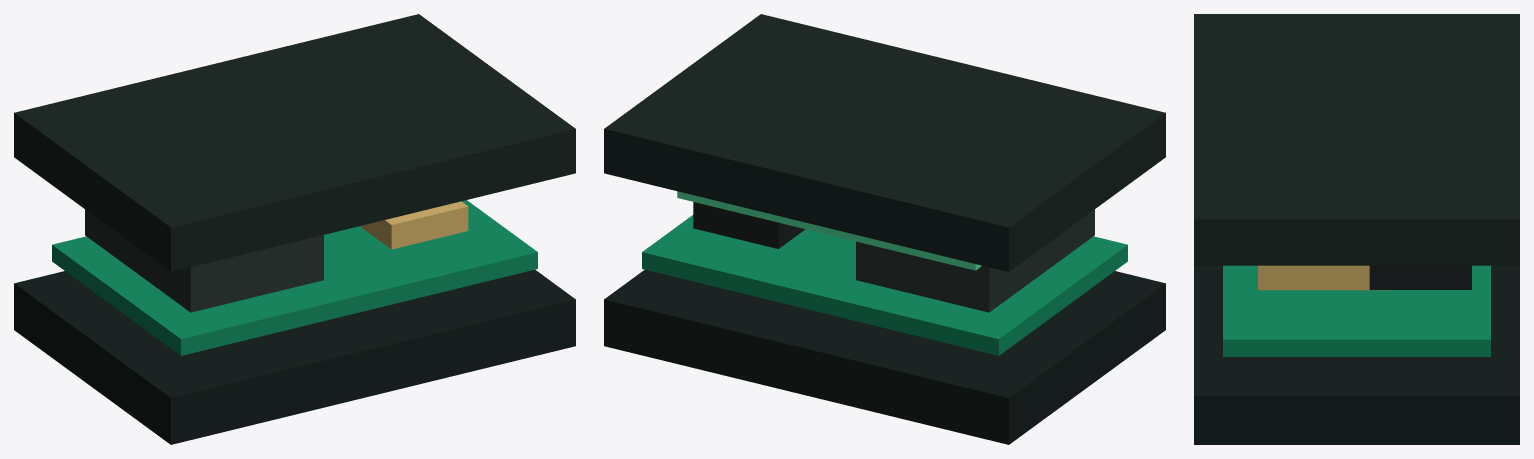
Rendered from gps-tracker.glb.
The picture shows the model from 3 angles, left to right: view 1: azimuth 30°, elevation 25°; view 2: azimuth 150°, elevation 25°; view 3: azimuth 270°, elevation 25°; orthographic projection. The views are drawn at different scales.
Visible parts, largest first — view 1: CaseTop, CaseBottom, PCB, Battery, SIMSlot; view 2: CaseTop, CaseBottom, PCB, Battery, GPSModule, 4GAntenna; view 3: CaseTop, CaseBottom, PCB, SIMSlot, GPSModule.
Boxes of the visible parts, x1,y1,x2,y2 form: CaseTop: [14, 14, 575, 271]; CaseBottom: [14, 269, 575, 444]; PCB: [52, 200, 537, 355]; Battery: [85, 209, 323, 312]; SIMSlot: [360, 201, 468, 249]; CaseTop: [604, 14, 1165, 271]; CaseBottom: [604, 269, 1165, 444]; PCB: [642, 215, 1127, 355]; Battery: [856, 209, 1094, 312]; GPSModule: [693, 202, 805, 248]; 4GAntenna: [677, 191, 981, 270]; CaseTop: [1194, 14, 1519, 265]; CaseBottom: [1194, 265, 1519, 444]; PCB: [1223, 265, 1490, 356]; SIMSlot: [1258, 265, 1391, 290]; GPSModule: [1369, 265, 1471, 289].
Size of the model in its own units: 3.8 by 1.95 by 2.55.
